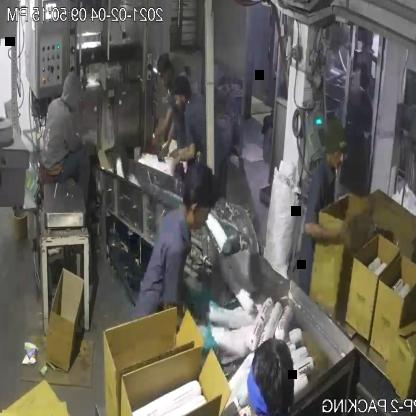no_glove: (293, 204, 361, 257), (150, 110, 178, 145), (168, 134, 199, 164)
